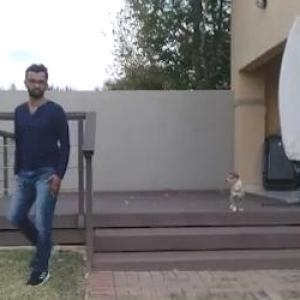follow: (12, 55, 88, 299)
